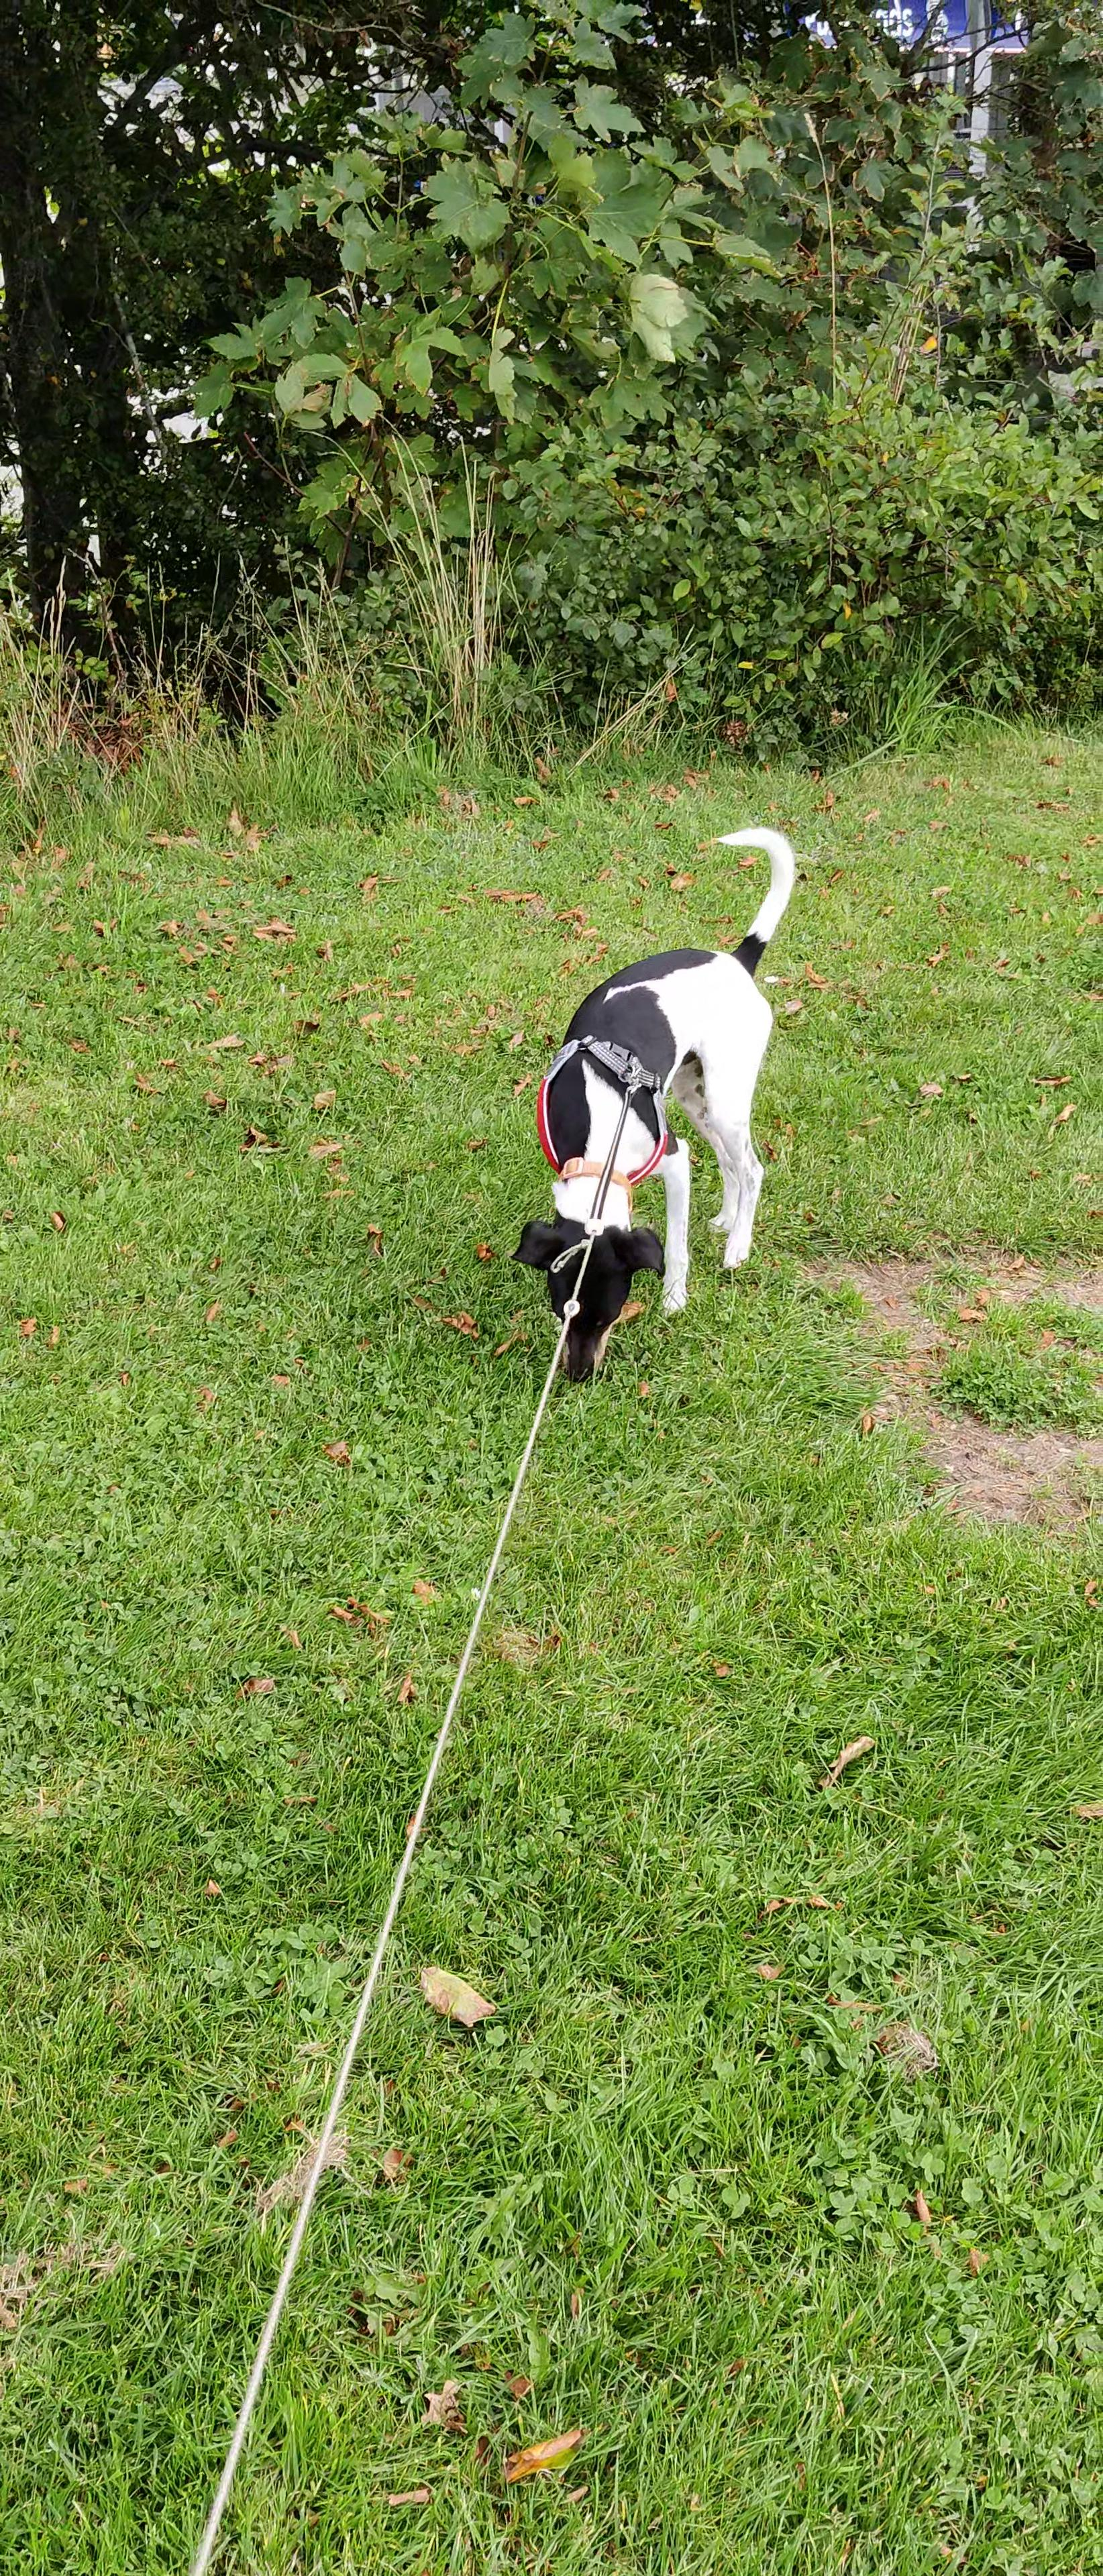Dog: (503, 821, 825, 1382)
